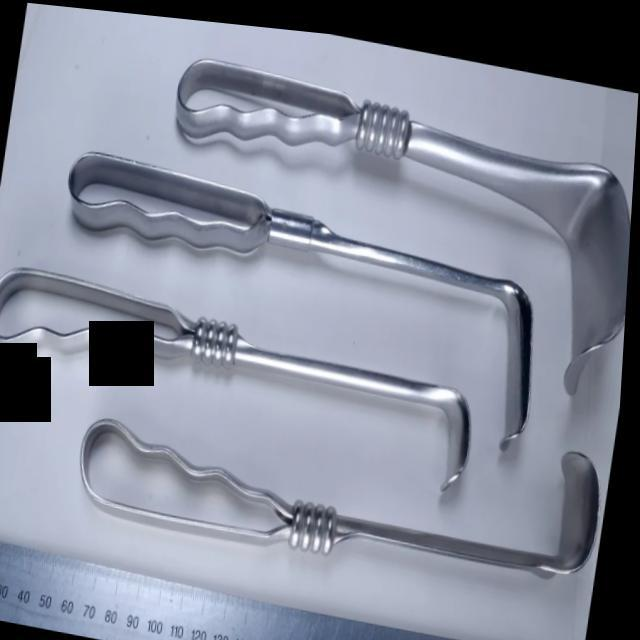Kelly Retractor: (35, 125, 568, 438), (146, 26, 640, 356), (73, 343, 620, 598), (0, 253, 491, 490)
